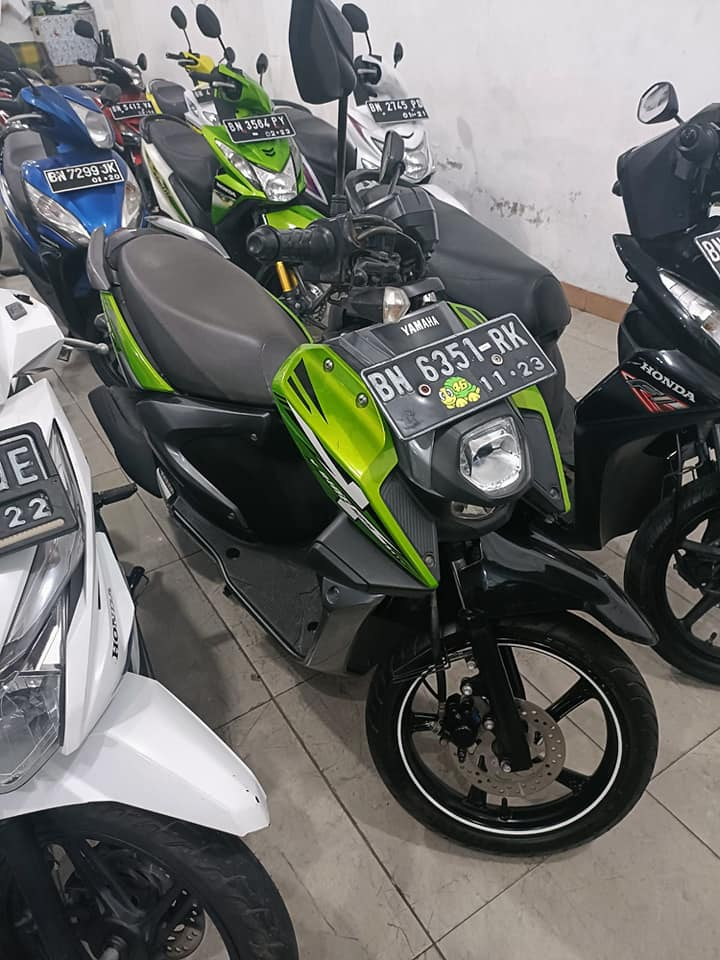plate: (351, 308, 576, 417), (35, 159, 129, 187), (218, 112, 295, 143), (360, 97, 434, 128)
